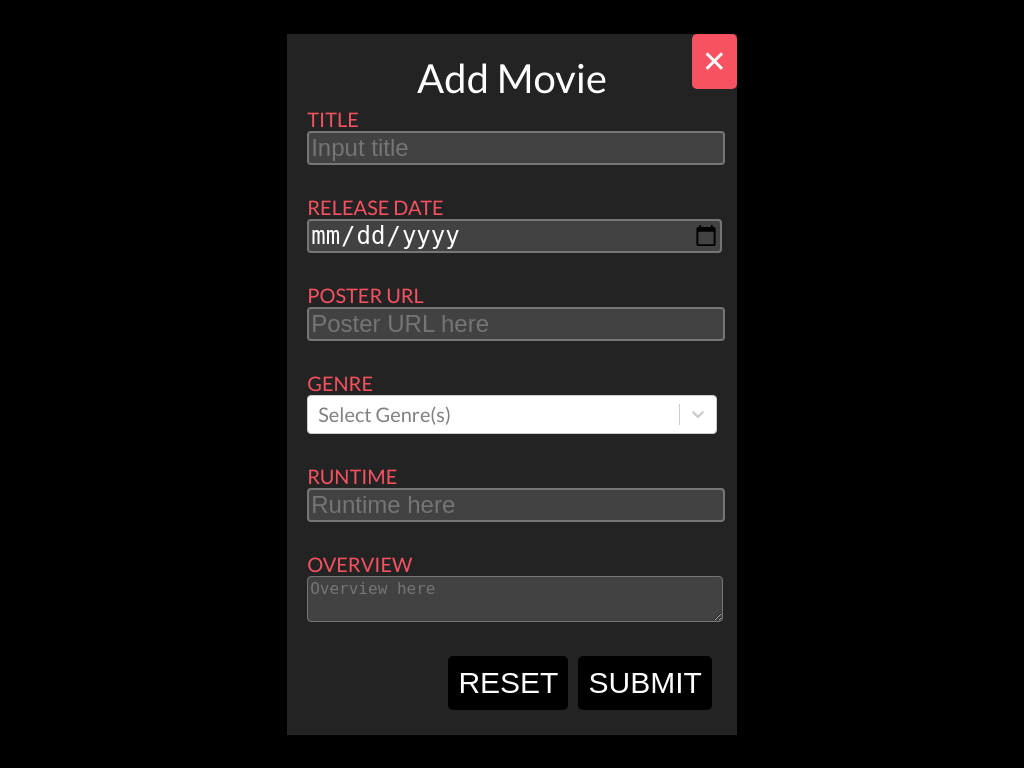
it: Add/Edit Movie Modal › Add Movie validation › RESET/SUBMIT enabled/disabled
The image size is (1024, 768).
Expected: the button "SUBMIT" is disabled, top-left (578, 656), bottom-right (712, 710)
Expected: the button "RESET" is disabled, top-left (448, 656), bottom-right (568, 710)
Type "Some Movie Title" into the field labelled "Title". click: (516, 148)
box: top-left (307, 130), bottom-right (725, 164)
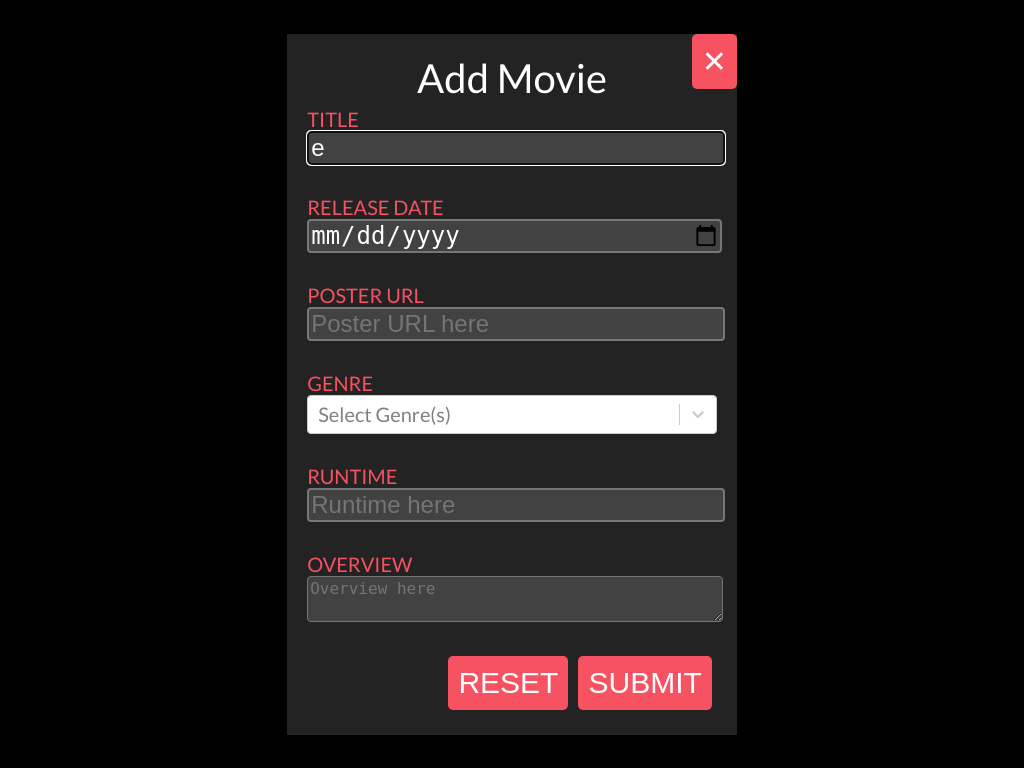
Expected: the button "SUBMIT" is enabled, top-left (578, 656), bottom-right (712, 710)
Expected: the button "RESET" is enabled, top-left (448, 656), bottom-right (568, 710)
